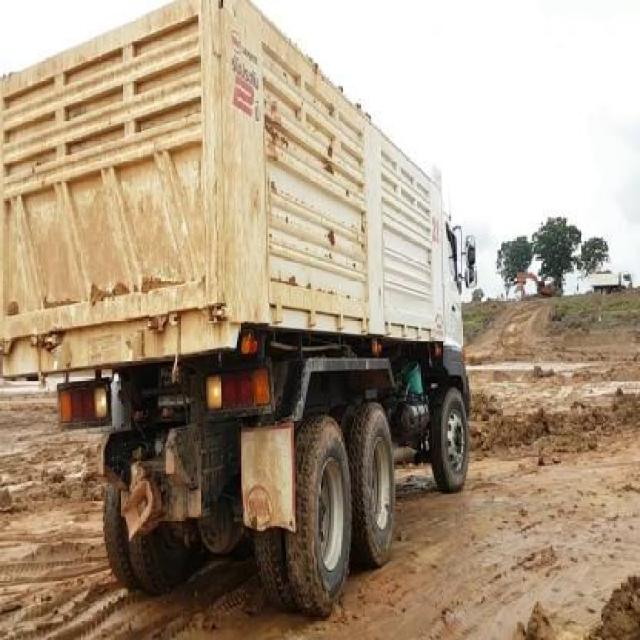dump_truck: (1, 0, 478, 617)
